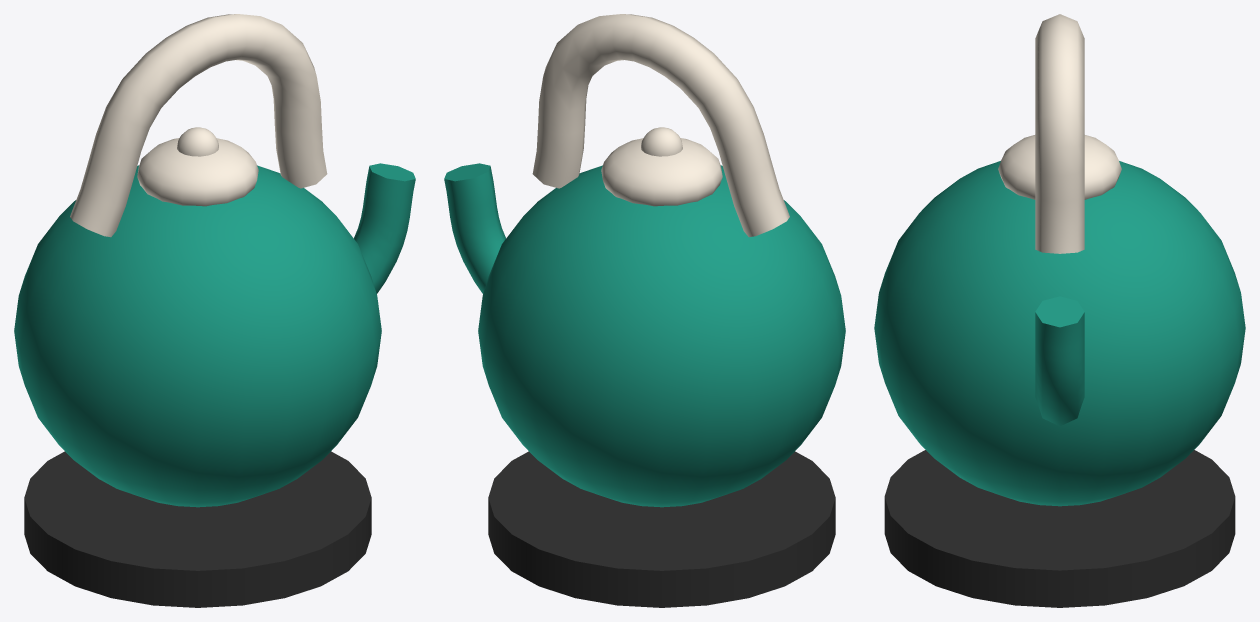
Rendered from kettle_a.glb.
3 renders of one model, left to right at view 1: azimuth 30°, elevation 25°; view 2: azimuth 150°, elevation 25°; view 3: azimuth 270°, elevation 25°, orthographic.
Visible parts, largest first — view 1: body; view 2: body; view 3: body.
Boxes of the visible parts, bbox=[...] form: body: bbox=[14, 14, 415, 607]; body: bbox=[444, 14, 845, 607]; body: bbox=[874, 14, 1245, 607].
Size of the model in its own units: 0.2116 by 0.2769 by 0.18.
